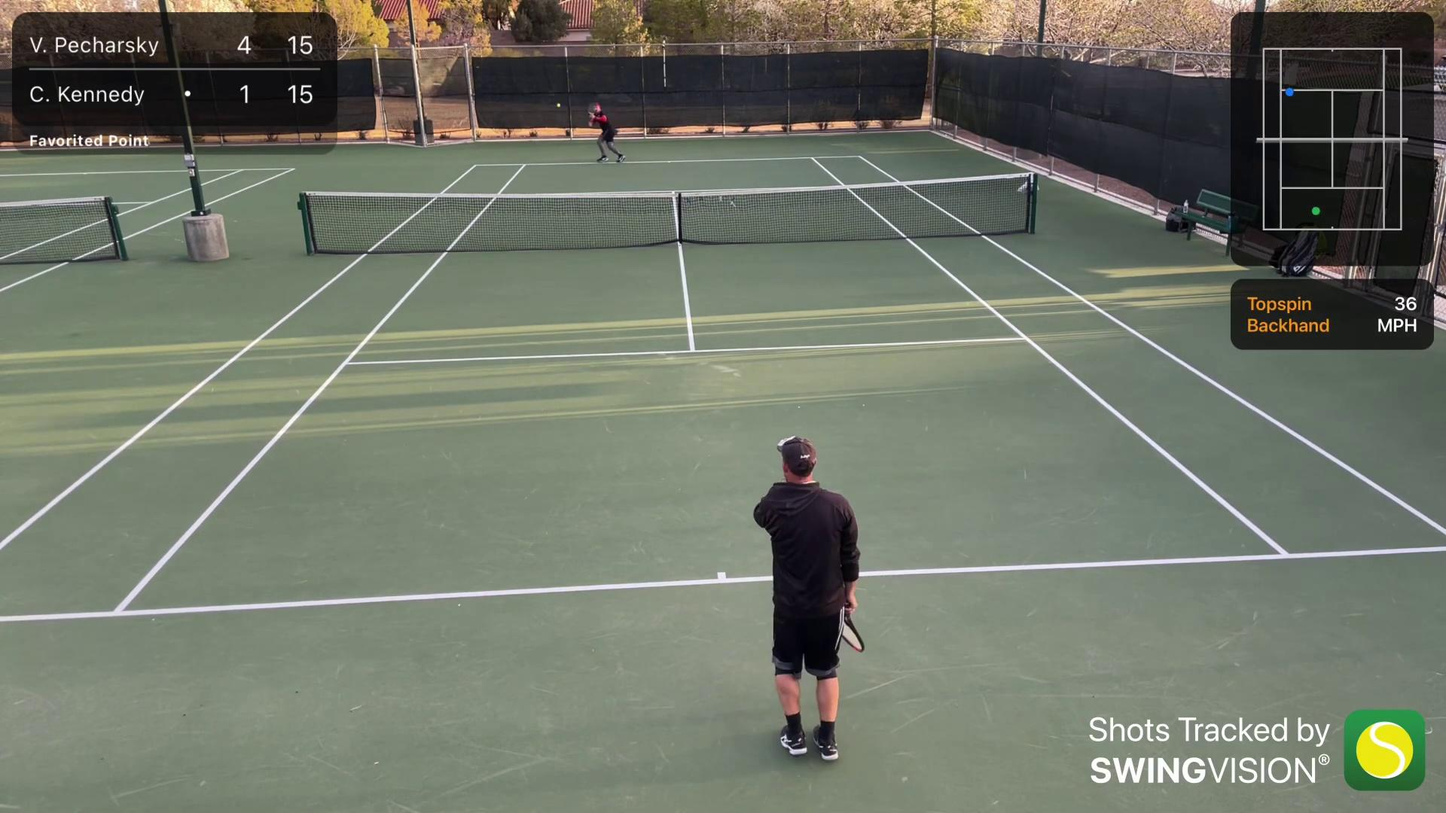ball: (555, 102, 562, 108)
